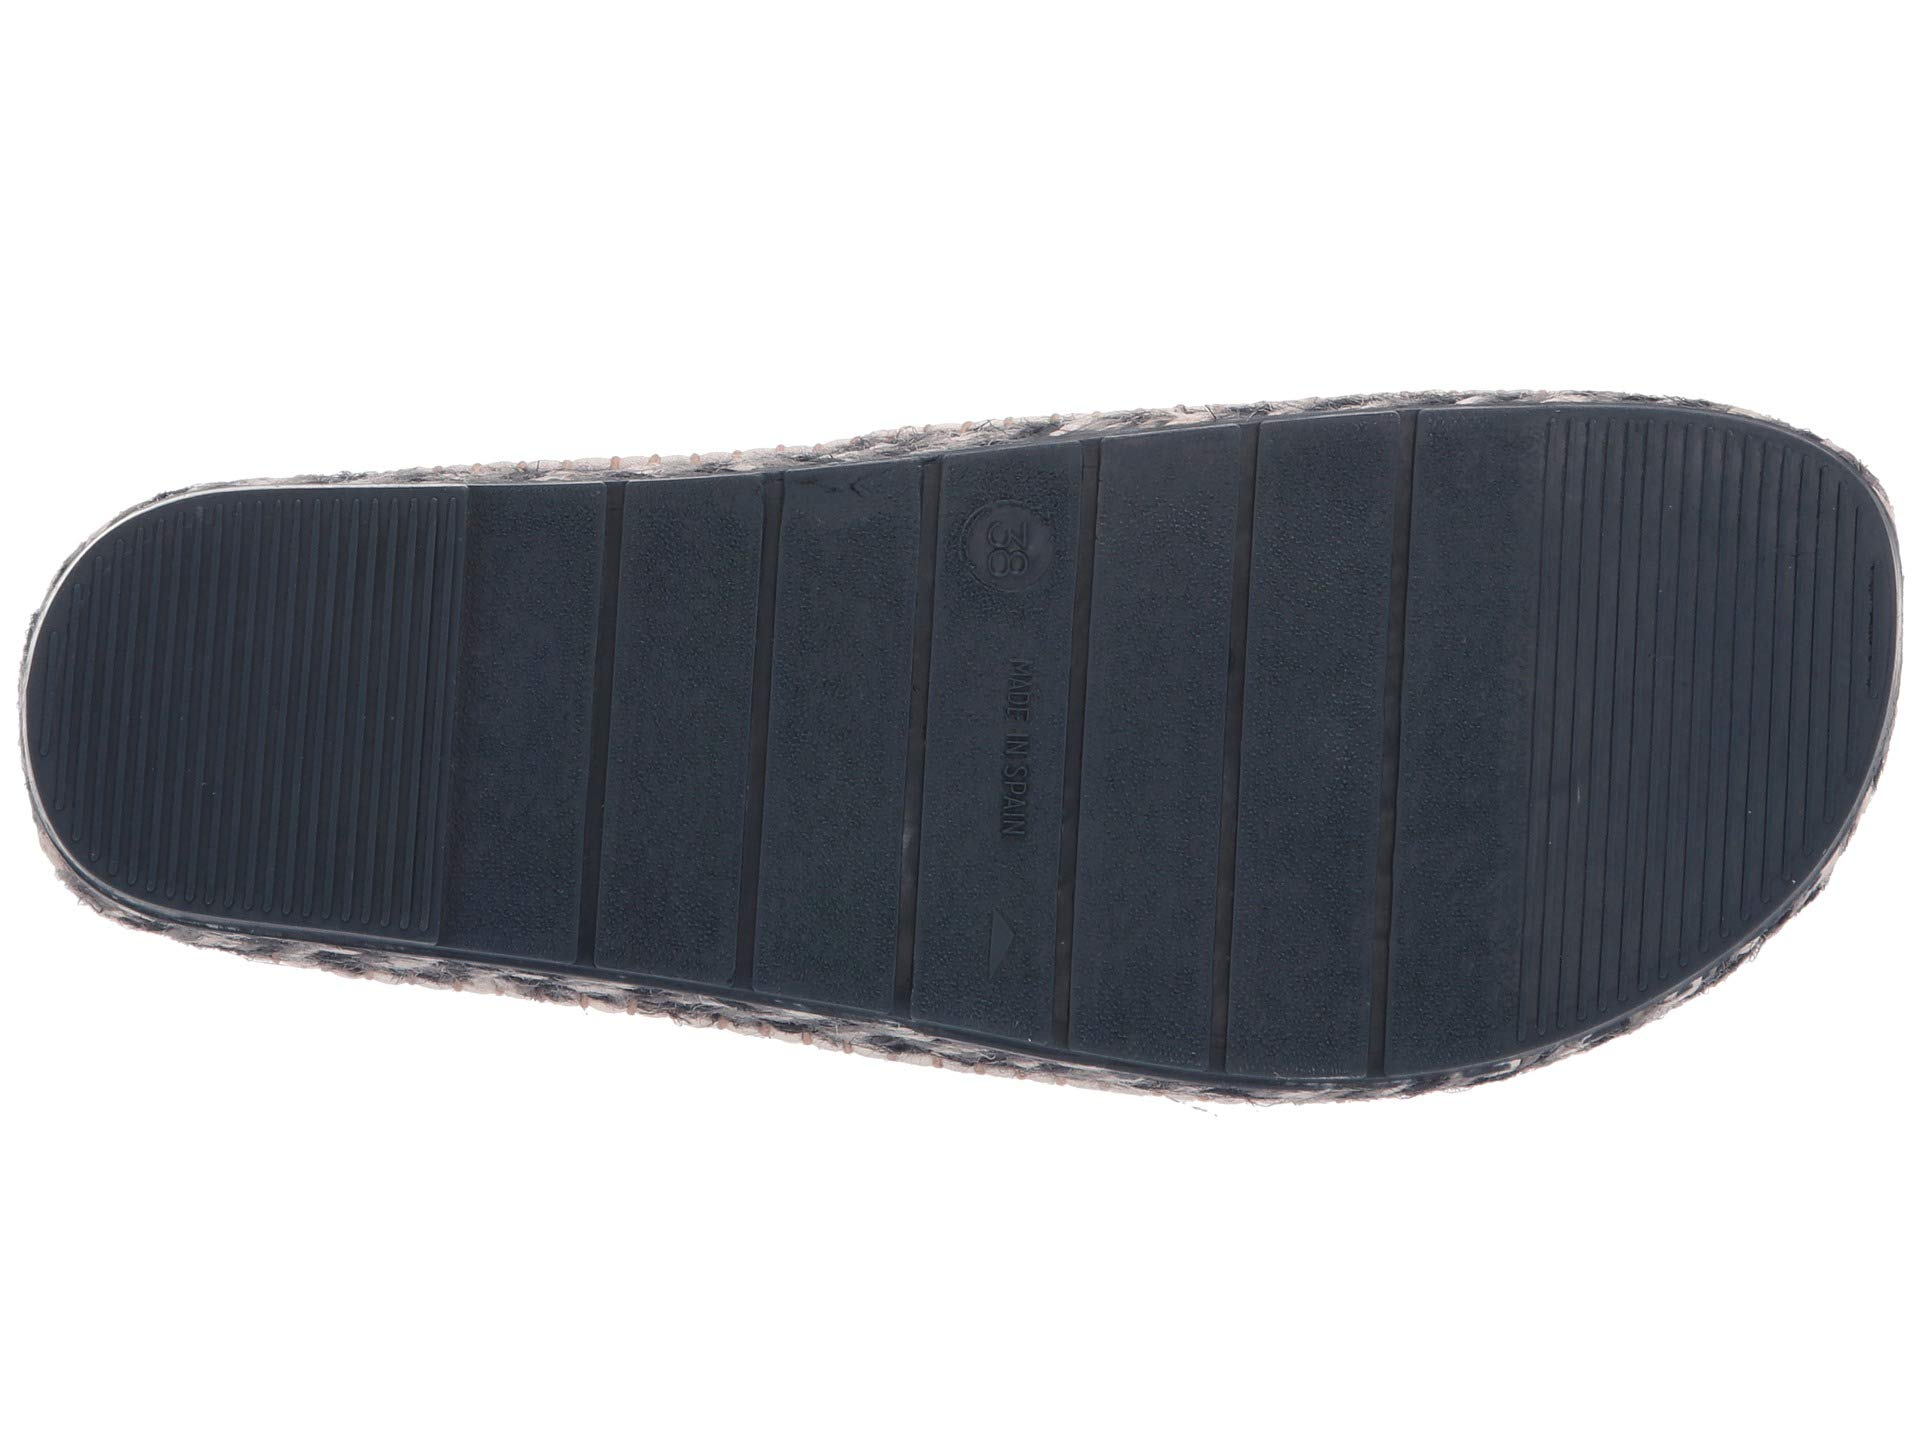circle: (937, 428, 1079, 1044)
line: (122, 566, 417, 864), (1544, 436, 1663, 976), (1695, 451, 1847, 803)
quad: (1225, 417, 1432, 1086), (1079, 430, 1274, 1069), (774, 461, 942, 1023), (602, 473, 782, 985), (937, 428, 1079, 1044), (441, 489, 596, 964)
text: (937, 428, 1079, 1044)
triangle: (937, 428, 1079, 1044)
